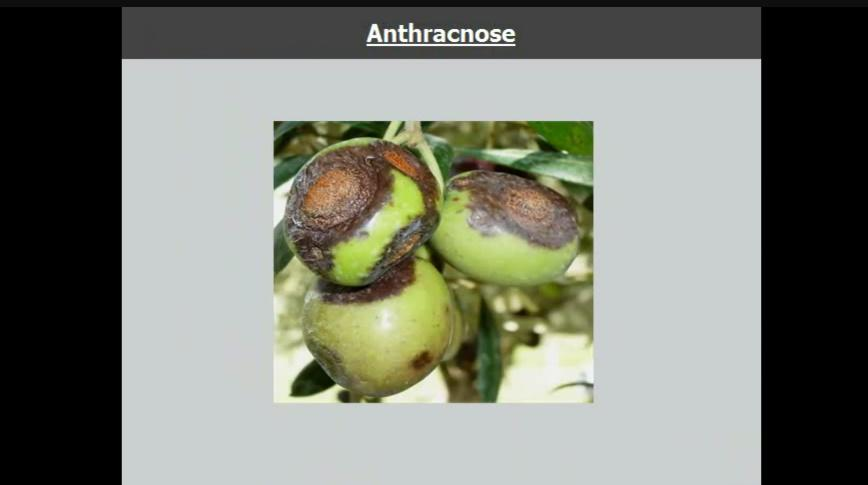Anthracnose: (286, 138, 440, 284), (445, 168, 584, 254)
